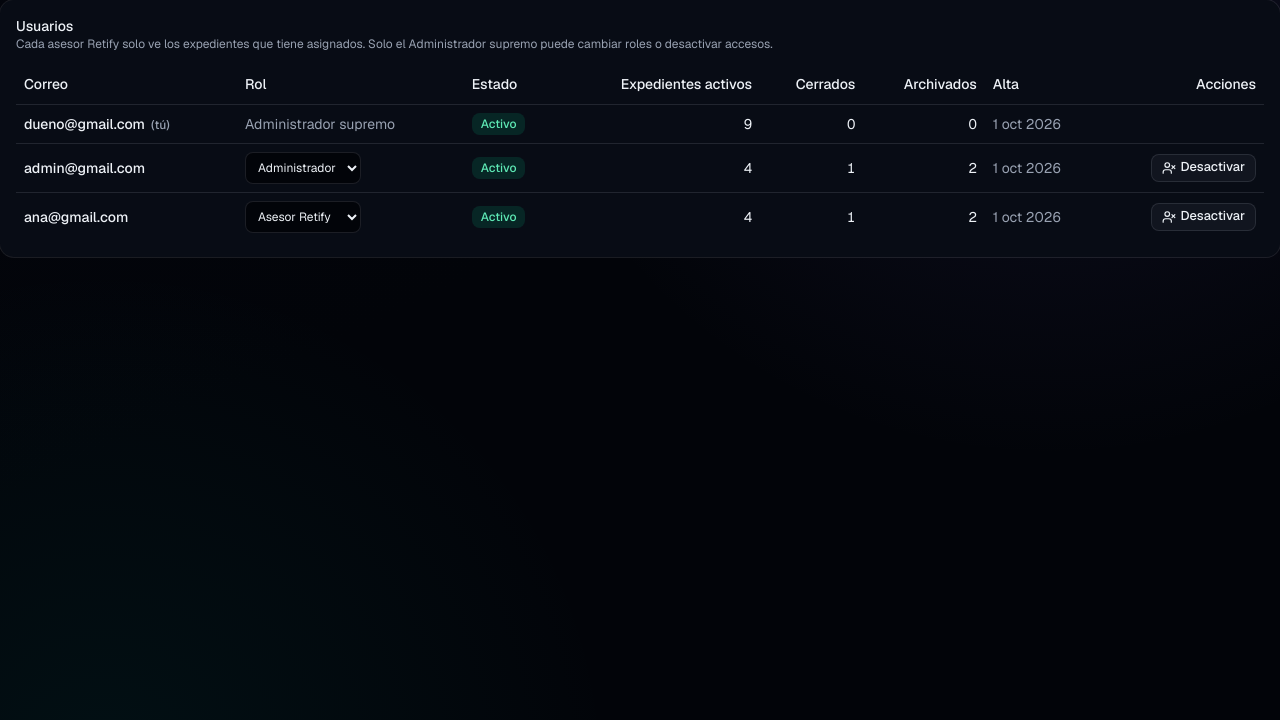
Scenario: TeamMembers › deactivates after confirming and updates the row
Step 1. Click the button with aria-label "desactivar a ana@gmail.com" → (1204, 216), box [1152, 202, 1256, 230]
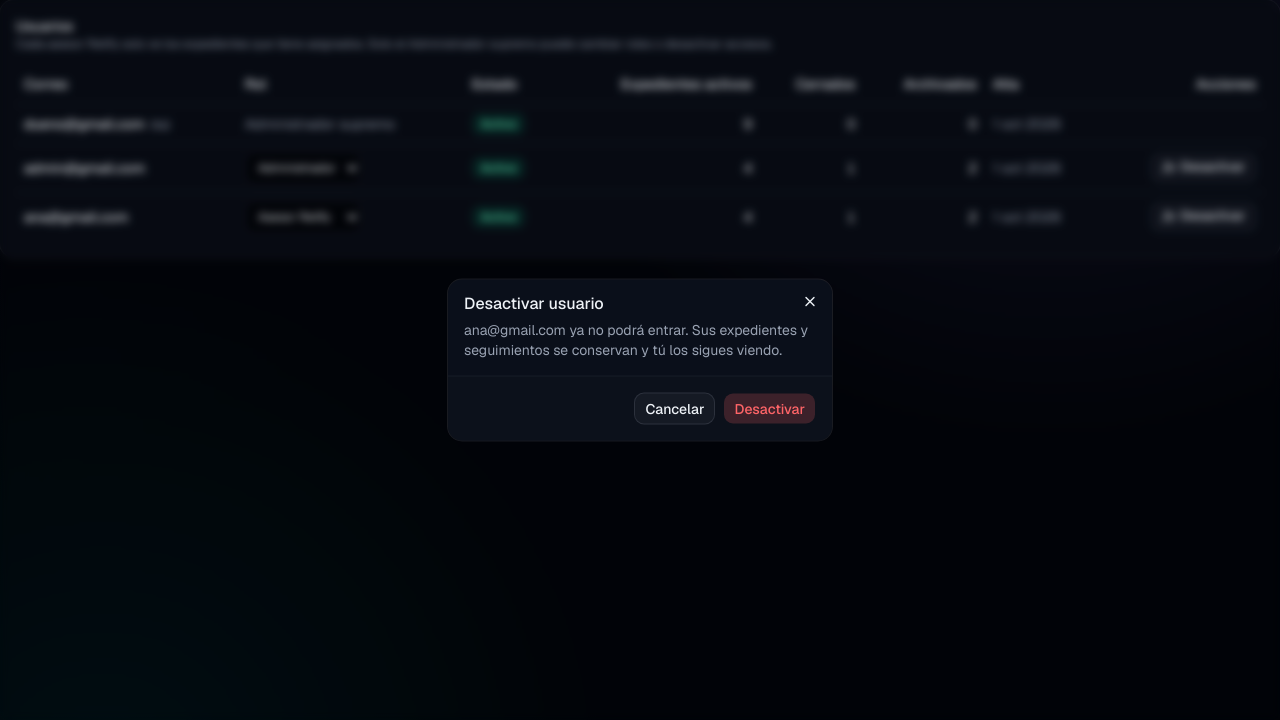
Expected: the text "ya no podrá entrar" is shown, [464, 320, 808, 358]
Step 2. Click the button "Desactivar" → (770, 408), box [723, 392, 816, 424]
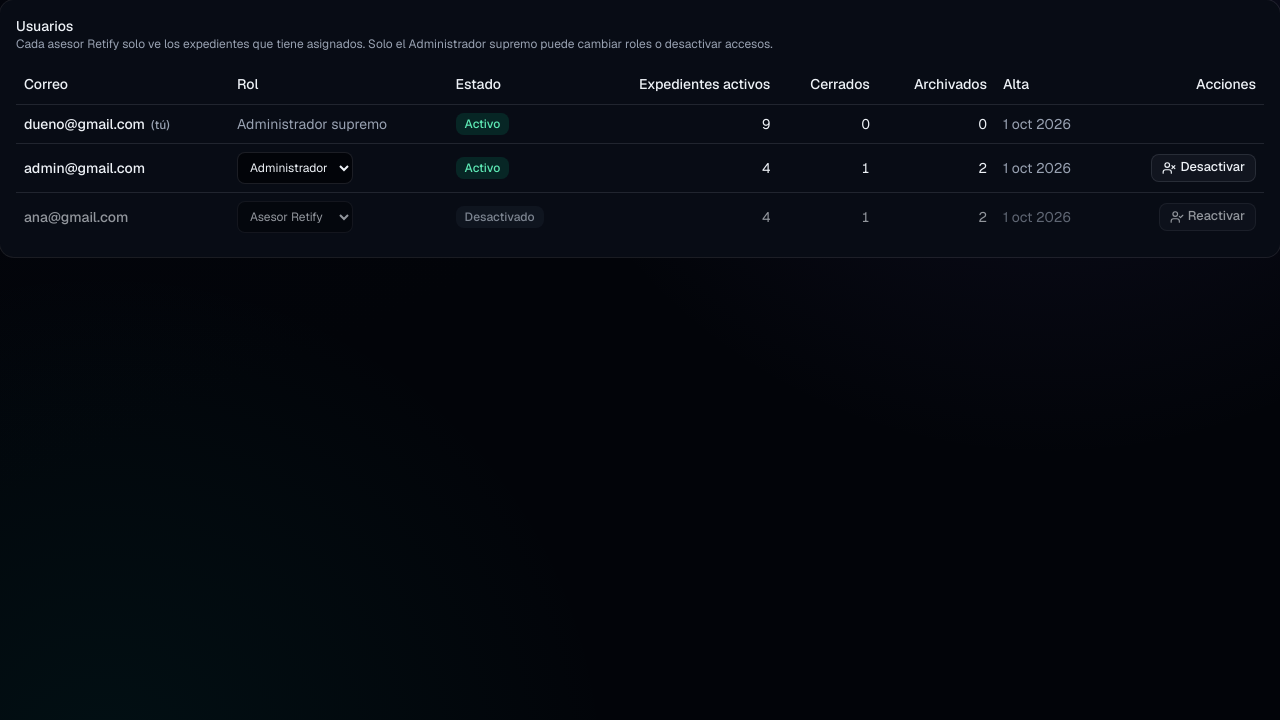
Expected: the text "Desactivado" is shown, [456, 206, 544, 228]
Expected: the button with aria-label "reactivar a ana@gmail.com" is shown, [1159, 202, 1256, 230]
